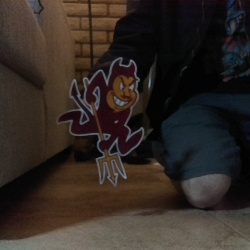sparky: (54, 56, 144, 186)
